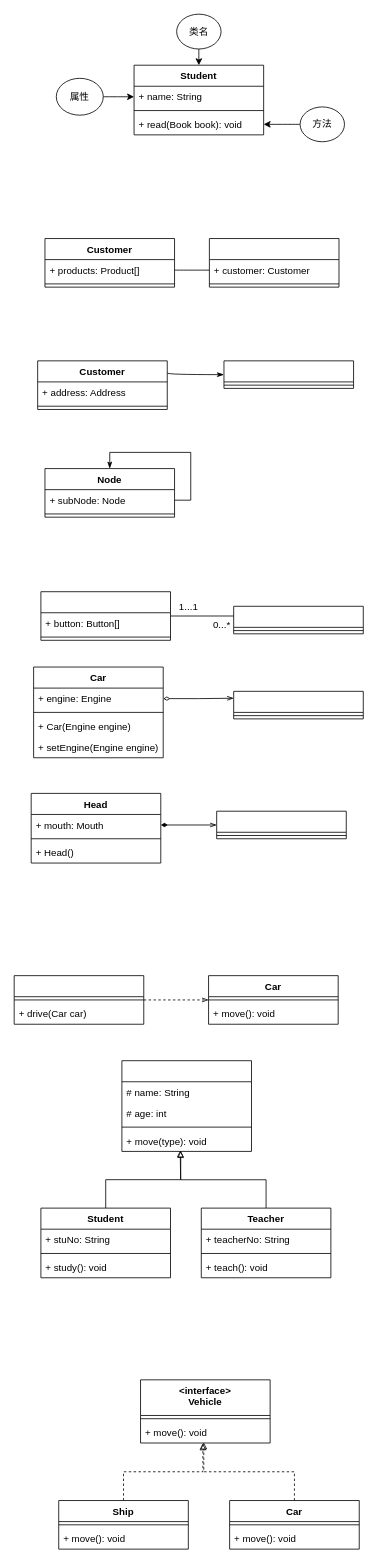
This 377x1566 diagram has some shape labels left out. Each missing label, with the box of its shape:
Address: (223, 360, 354, 388)
Button: (233, 605, 363, 634)
Driver: (13, 975, 144, 1024)
Engine: (233, 691, 363, 719)
Form: (40, 591, 171, 640)
Mouth: (216, 810, 346, 839)
Person: (121, 1060, 252, 1151)
Product: (209, 238, 339, 287)
